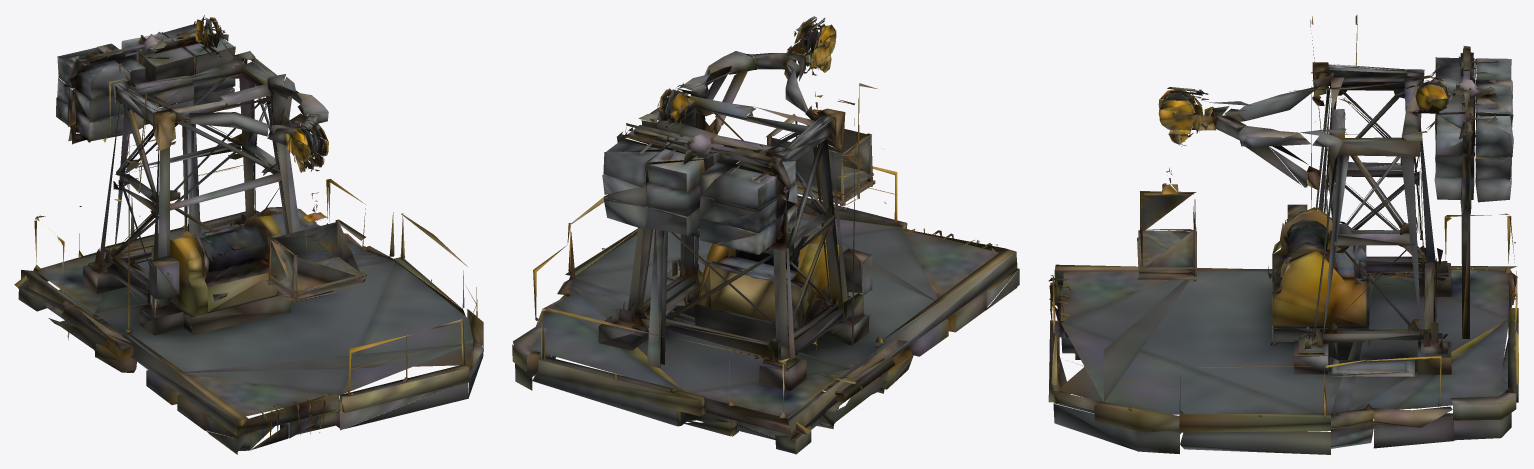
Rendered from crane-far.glb.
The picture shows the model from 3 angles, left to right: view 1: azimuth 30°, elevation 25°; view 2: azimuth 150°, elevation 25°; view 3: azimuth 270°, elevation 25°; orthographic projection. The views are drawn at different scales.
Parts seen in each view (by area): view 1: crane; view 2: crane; view 3: crane.
Part boxes in pixels (x1,y1,x2,y2): crane: (14,15,483,454); crane: (512,16,1019,454); crane: (1048,15,1518,454).
Bounding box in the file's own units: 8.16 × 7.05 × 9.98.
Materials: 1 (1 with a texture image).
